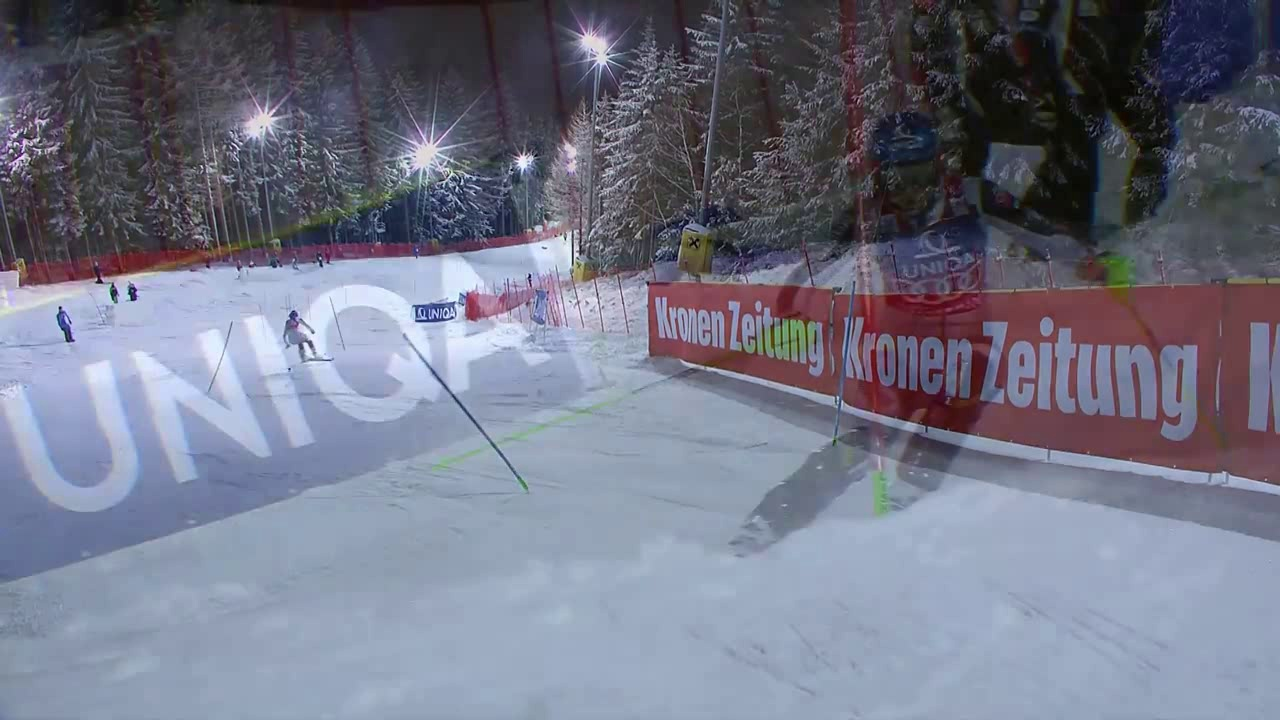kronenzeitung: (837, 312, 1198, 435), (648, 285, 830, 388)
